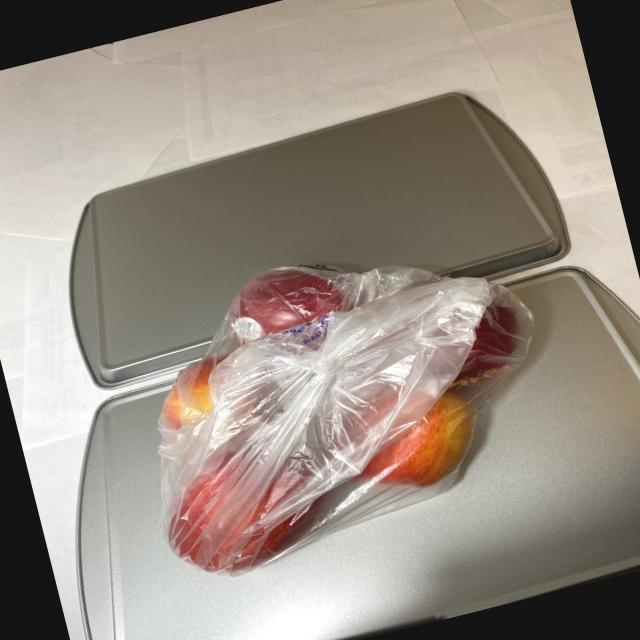apple: (109, 206, 579, 588)
